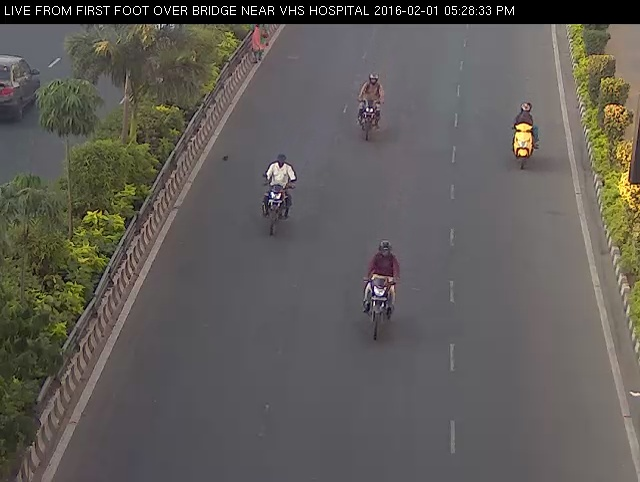Person: (354, 232, 409, 346), (256, 150, 300, 240), (501, 95, 547, 180), (352, 65, 389, 148), (245, 16, 273, 66)
